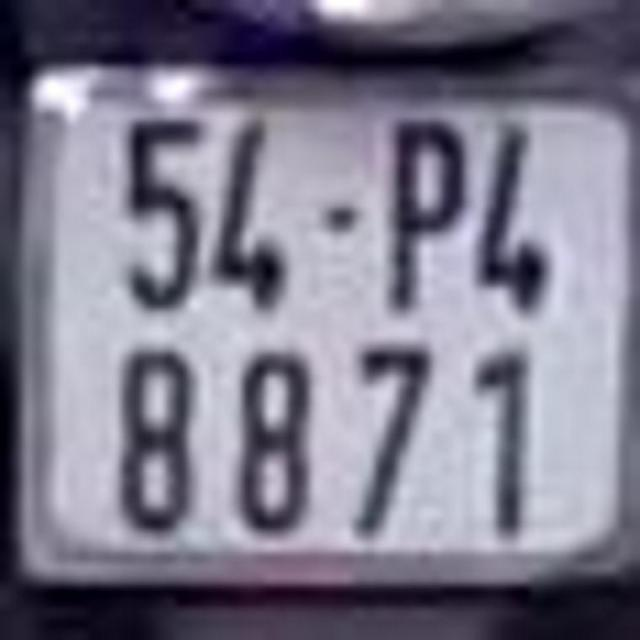1: (470, 348, 532, 527)
4: (477, 116, 550, 311), (218, 131, 283, 303)
5: (130, 122, 197, 312)
7: (352, 339, 435, 536)
8: (237, 352, 304, 530), (123, 350, 189, 524)
P: (389, 116, 469, 314)
